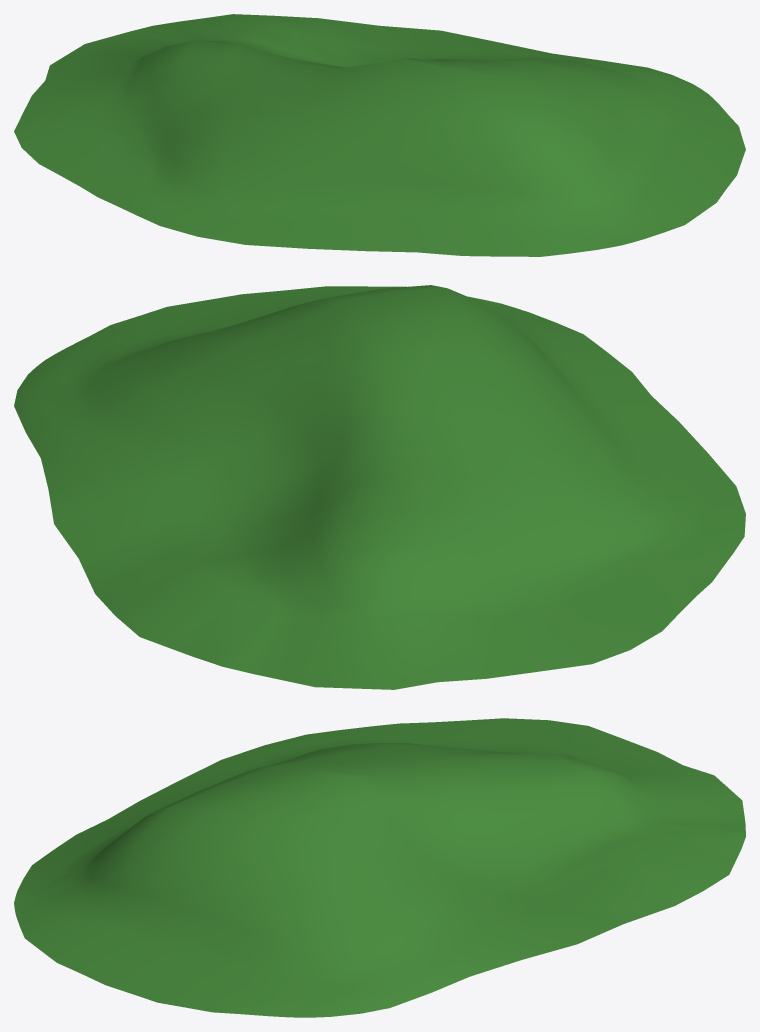
The model's file is Relevo3.fbx.
3 views of the same model, one above another, from view 1: azimuth 30°, elevation 25°; view 2: azimuth 150°, elevation 25°; view 3: azimuth 270°, elevation 25° (orthographic). The views are drawn at different scales.
Parts seen in each view (by area): view 1: Relevo3; view 2: Relevo3; view 3: Relevo3.
Part boxes in pixels (<box>): Relevo3: <box>14,14,745,256</box>; Relevo3: <box>14,285,745,689</box>; Relevo3: <box>14,718,745,1017</box>.
Size of the model in its own units: 1508 by 226 by 1558.
